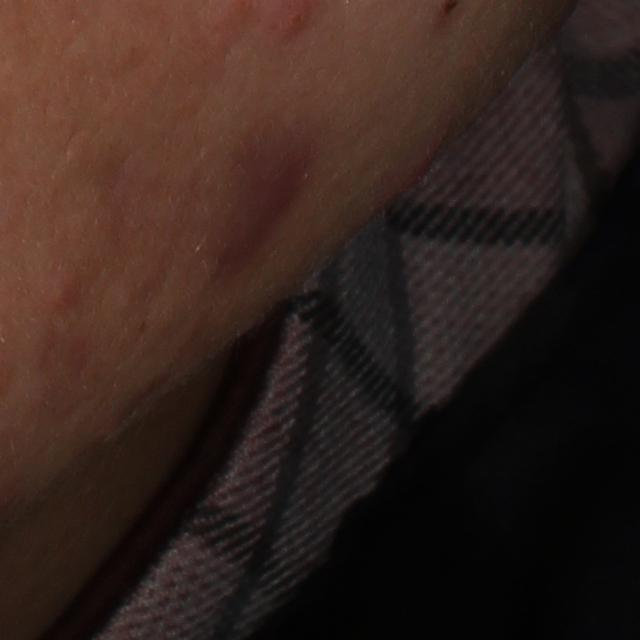nodule: (208, 134, 308, 274)
papule: (41, 276, 77, 311)
